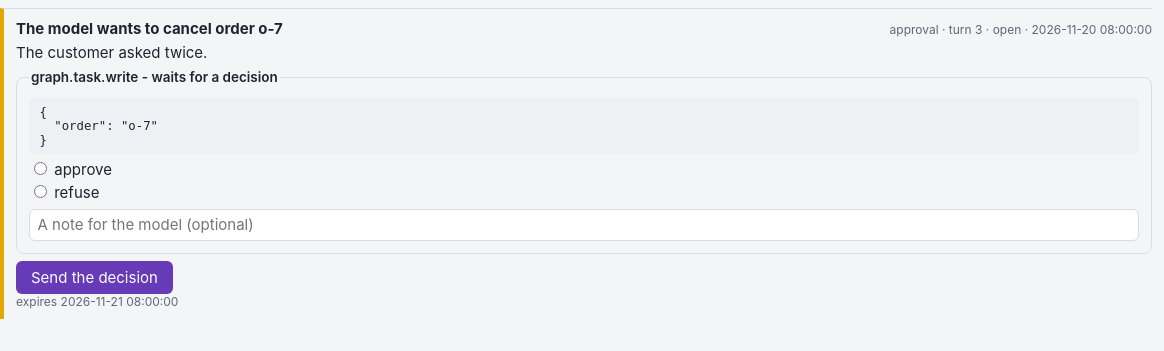
Test: Card › shows the problem when the decision fails
Click the radio button labelled "refuse".
click(40, 191)  # box [34,184,47,198]
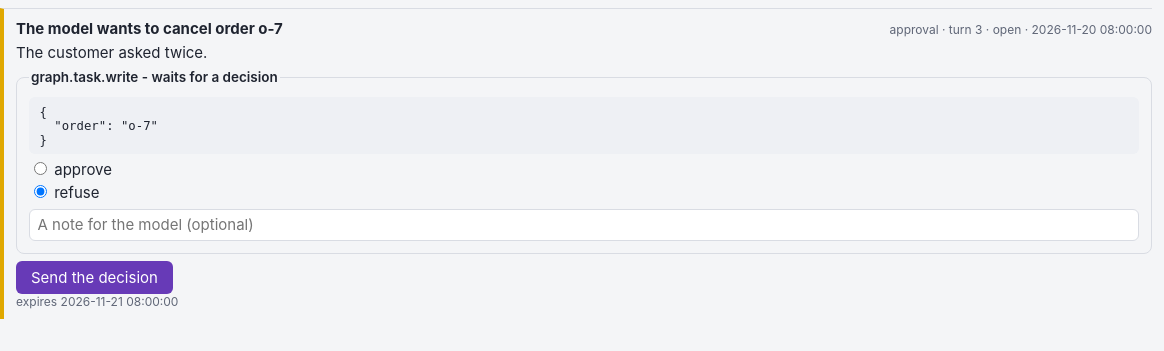
Submit the form
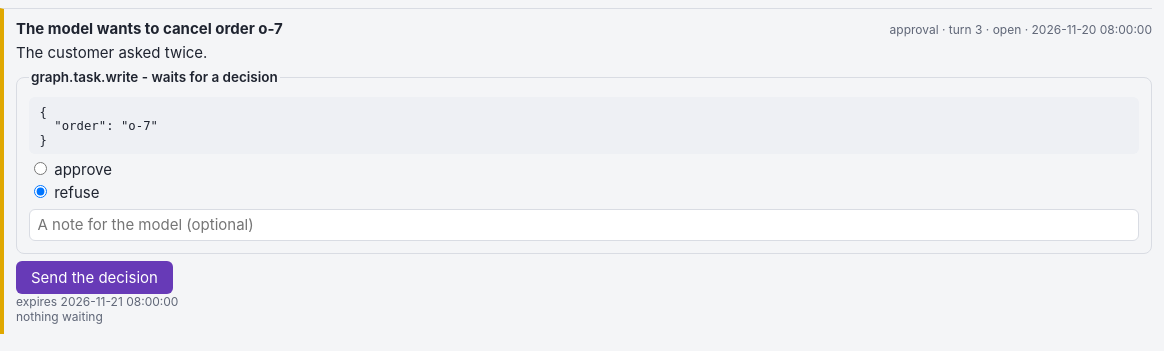
Now the message reads "nothing waiting", box [16,308,103,324]
